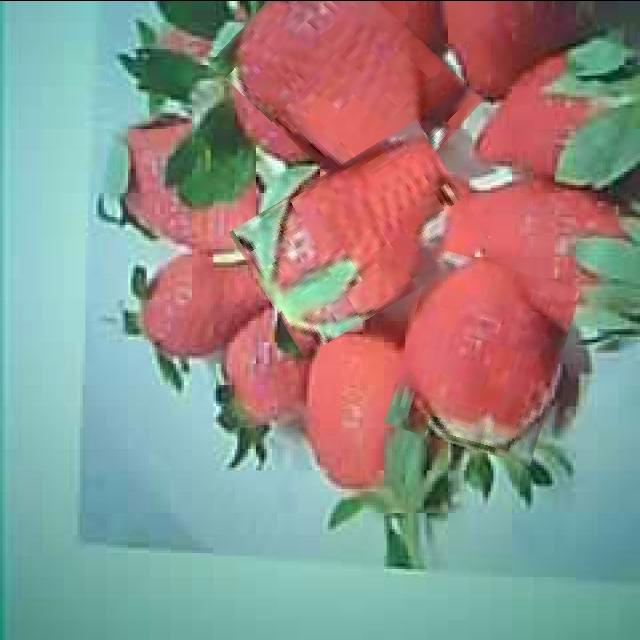strawberry: (221, 0, 472, 188), (240, 141, 482, 333), (394, 256, 569, 457)
